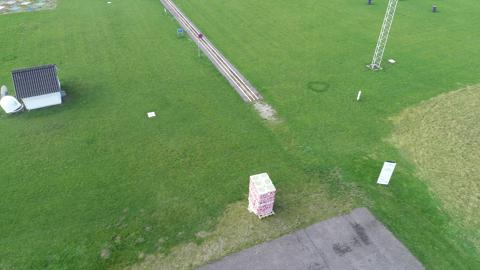RockwoolPallet: (248, 172, 277, 218)
